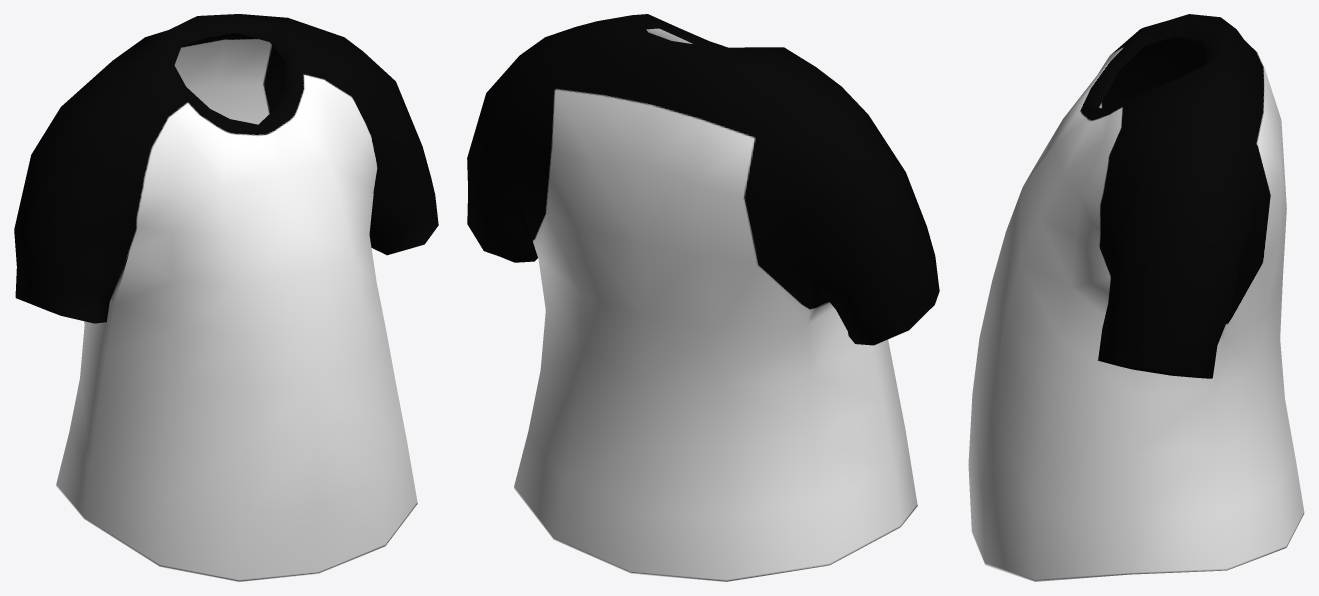
Rendered from AF_M_Jacket_02.fbx.
3 views of the same model, side by side, from view 1: azimuth 30°, elevation 25°; view 2: azimuth 150°, elevation 25°; view 3: azimuth 270°, elevation 25° (orthographic). The views are drawn at different scales.
Visible parts, largest first — view 1: AF_M_Jacket_02; view 2: AF_M_Jacket_02; view 3: AF_M_Jacket_02.
Boxes of the visible parts, x1,y1,x2,y2 form: AF_M_Jacket_02: (14,14,438,581); AF_M_Jacket_02: (467,14,939,581); AF_M_Jacket_02: (968,14,1304,581).
Bounding box in the file's own units: 457 × 510 × 315.
